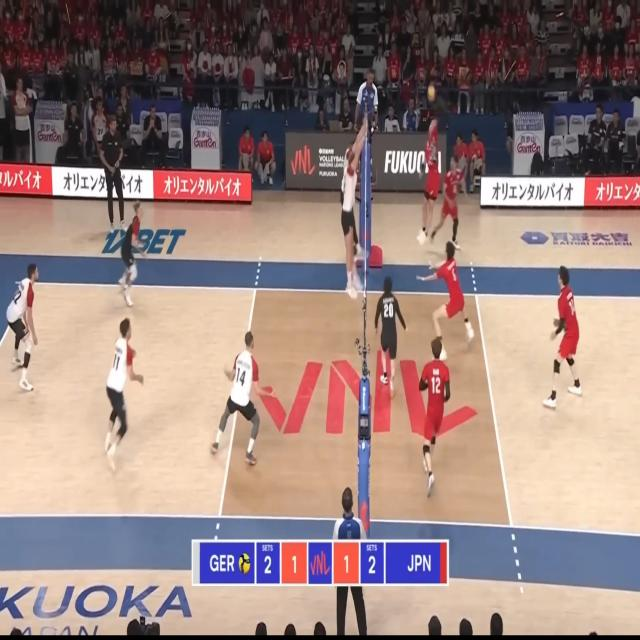ball: (427, 86, 435, 101)
